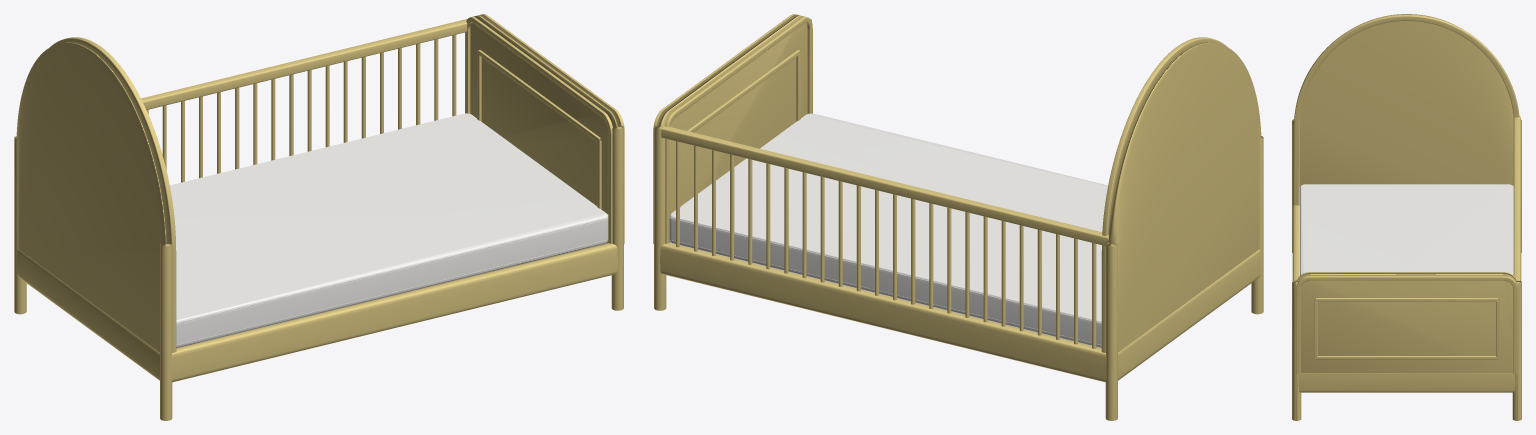
Rendered from yellow_toto3_junior.glb.
The picture shows the model from 3 angles, left to right: view 1: azimuth 30°, elevation 25°; view 2: azimuth 150°, elevation 25°; view 3: azimuth 270°, elevation 25°; orthographic projection. The views are drawn at different scales.
Visible parts, largest first — view 1: Fitted ivory mattress covering bed deck 2000 x 1110 x 120 mm, Solid arched headboard, Long base rail, Solid footboard with softened top corners, Rounded corner leg (×3), Back upper rail, End base rail, Footboard outer rounded molding, Raised rounded arch border, Mattress piping (×2), Footboard inset horizontal molding; view 2: Fitted ivory mattress covering bed deck 2000 x 1110 x 120 mm, Solid arched headboard, Long base rail, Solid footboard with softened top corners, Back upper rail, Rounded corner leg (×3), End base rail, Footboard outer rounded molding, Raised rounded arch border, Footboard inset horizontal molding; view 3: Solid arched headboard, Fitted ivory mattress covering bed deck 2000 x 1110 x 120 mm, Solid footboard with softened top corners, End base rail, Raised rounded arch border, Footboard outer rounded molding (×2), Rounded corner leg (×3), Footboard inset horizontal molding (×2), Back upper rail, Long base rail, Footboard inset vertical molding (×2).
Boxes of the visible parts, box(x1,y1,x2,y2) form: Fitted ivory mattress covering bed deck 2000 x 1110 x 120 mm: box(169, 113, 608, 348); Solid arched headboard: box(16, 42, 169, 352); Long base rail: box(171, 243, 617, 382); Solid footboard with softened top corners: box(470, 14, 621, 214); Rounded corner leg (×3): box(14, 126, 623, 420); Back upper rail: box(141, 19, 467, 109); End base rail: box(17, 249, 159, 380); Footboard outer rounded molding: box(465, 16, 612, 243); Raised rounded arch border: box(50, 37, 176, 352); Mattress piping (×2): box(176, 217, 608, 345); Footboard inset horizontal molding: box(478, 50, 600, 141); Fitted ivory mattress covering bed deck 2000 x 1110 x 120 mm: box(669, 113, 1108, 348); Solid arched headboard: box(1108, 42, 1261, 352); Long base rail: box(660, 243, 1106, 382); Solid footboard with softened top corners: box(656, 14, 807, 214); Back upper rail: box(661, 126, 1108, 245); Rounded corner leg (×3): box(654, 126, 1263, 420); End base rail: box(1118, 249, 1260, 380); Footboard outer rounded molding: box(665, 16, 812, 243); Raised rounded arch border: box(1101, 37, 1227, 352); Footboard inset horizontal molding: box(687, 50, 799, 132); Solid arched headboard: box(1299, 14, 1513, 185); Fitted ivory mattress covering bed deck 2000 x 1110 x 120 mm: box(1300, 184, 1513, 275); Solid footboard with softened top corners: box(1297, 272, 1516, 372); End base rail: box(1298, 373, 1515, 392); Raised rounded arch border: box(1293, 14, 1519, 205); Footboard outer rounded molding (×2): box(1296, 272, 1517, 374); Rounded corner leg (×3): box(1292, 119, 1521, 420); Footboard inset horizontal molding (×2): box(1316, 298, 1497, 359); Back upper rail: box(1513, 116, 1520, 280); Long base rail: box(1292, 204, 1299, 280); Footboard inset vertical molding (×2): box(1314, 299, 1499, 358).
Bounding box in the file's own units: 2.1 × 1.37 × 1.19.
